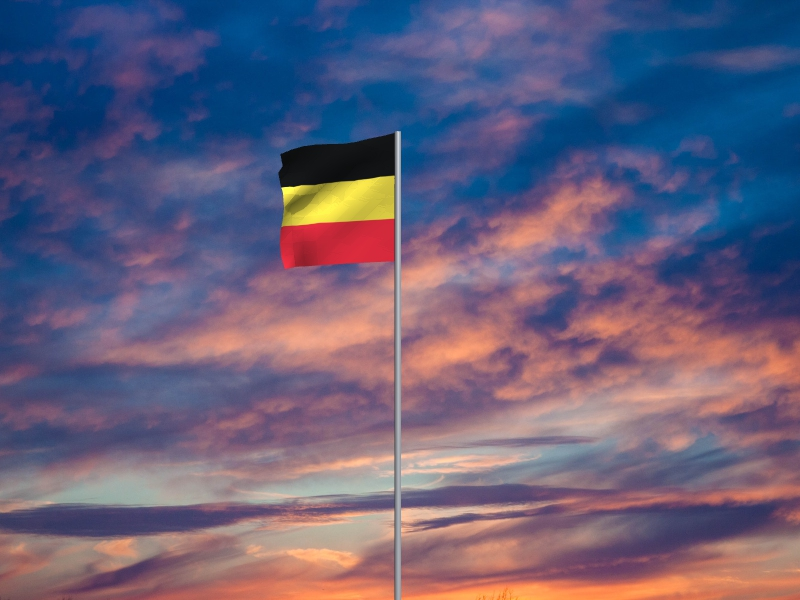be: (277, 134, 396, 273)
